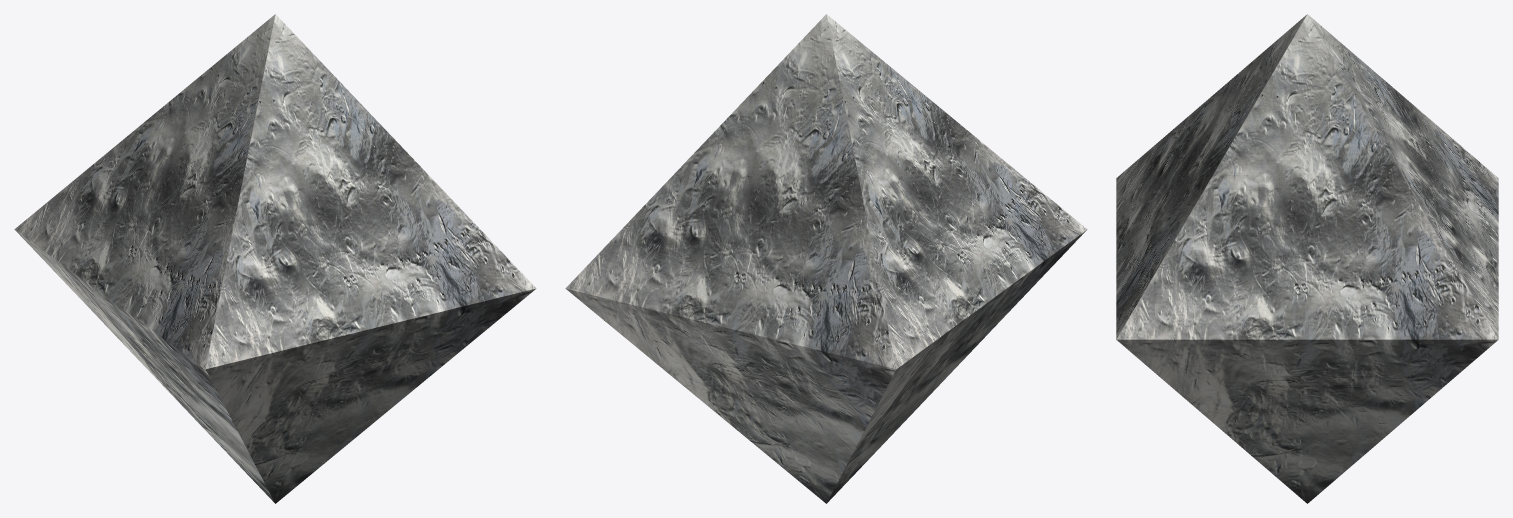
Rendered from mass_transporter.FBX.
3 views of the same model, side by side, from view 1: azimuth 30°, elevation 25°; view 2: azimuth 150°, elevation 25°; view 3: azimuth 270°, elevation 25° (orthographic).
Parts seen in each view (by area): view 1: Hedra01; view 2: Hedra01; view 3: Hedra01.
Boxes of the visible parts, <box> form: Hedra01: <box>14,14,536,503</box>; Hedra01: <box>565,14,1087,503</box>; Hedra01: <box>1116,14,1498,503</box>.
Size of the model in its own units: 96.68 by 137 by 96.68.
1 material, 1 textured.
